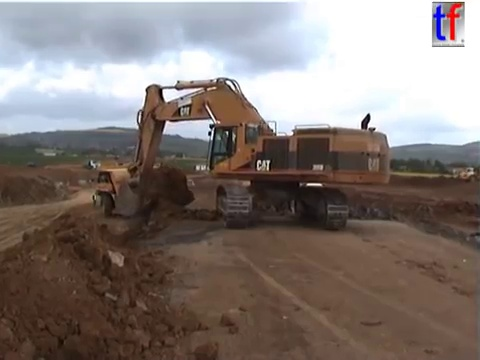excavator: (112, 75, 394, 232)
truck: (86, 162, 197, 213), (457, 165, 480, 185), (82, 158, 102, 171)
worker: (90, 191, 99, 208)
